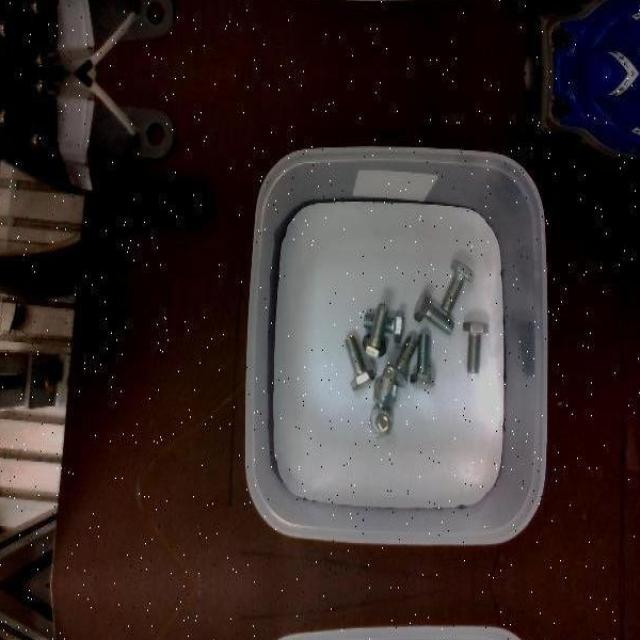screw: (438, 258, 476, 312), (413, 290, 454, 336), (344, 335, 374, 390), (361, 302, 388, 357), (463, 321, 490, 372), (411, 334, 435, 388), (372, 366, 396, 408)
